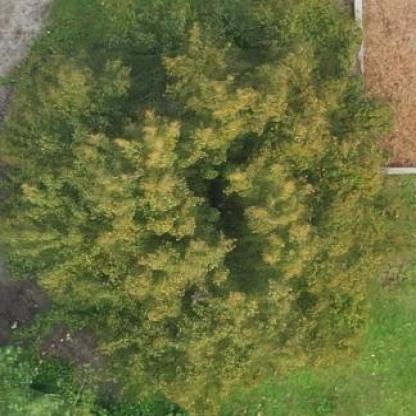Deciduous Tree: (0, 1, 411, 390)
